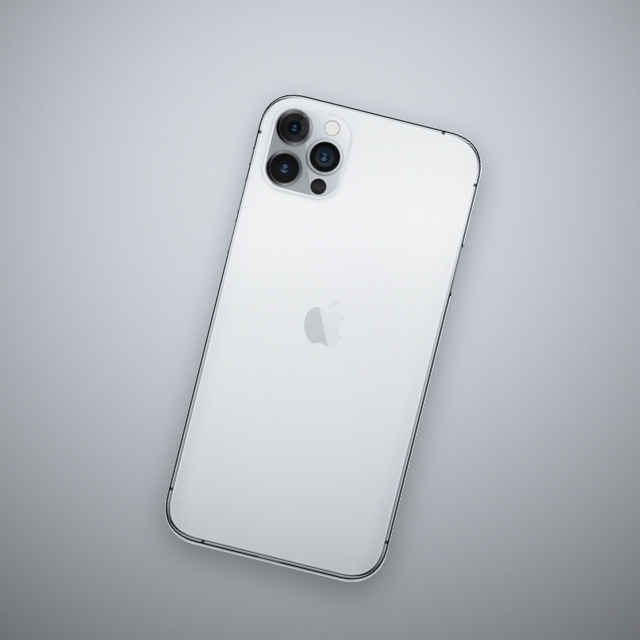iphone_12pro_silver: (161, 72, 486, 591), (265, 96, 354, 206)
